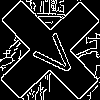V: (25, 25, 82, 81)
